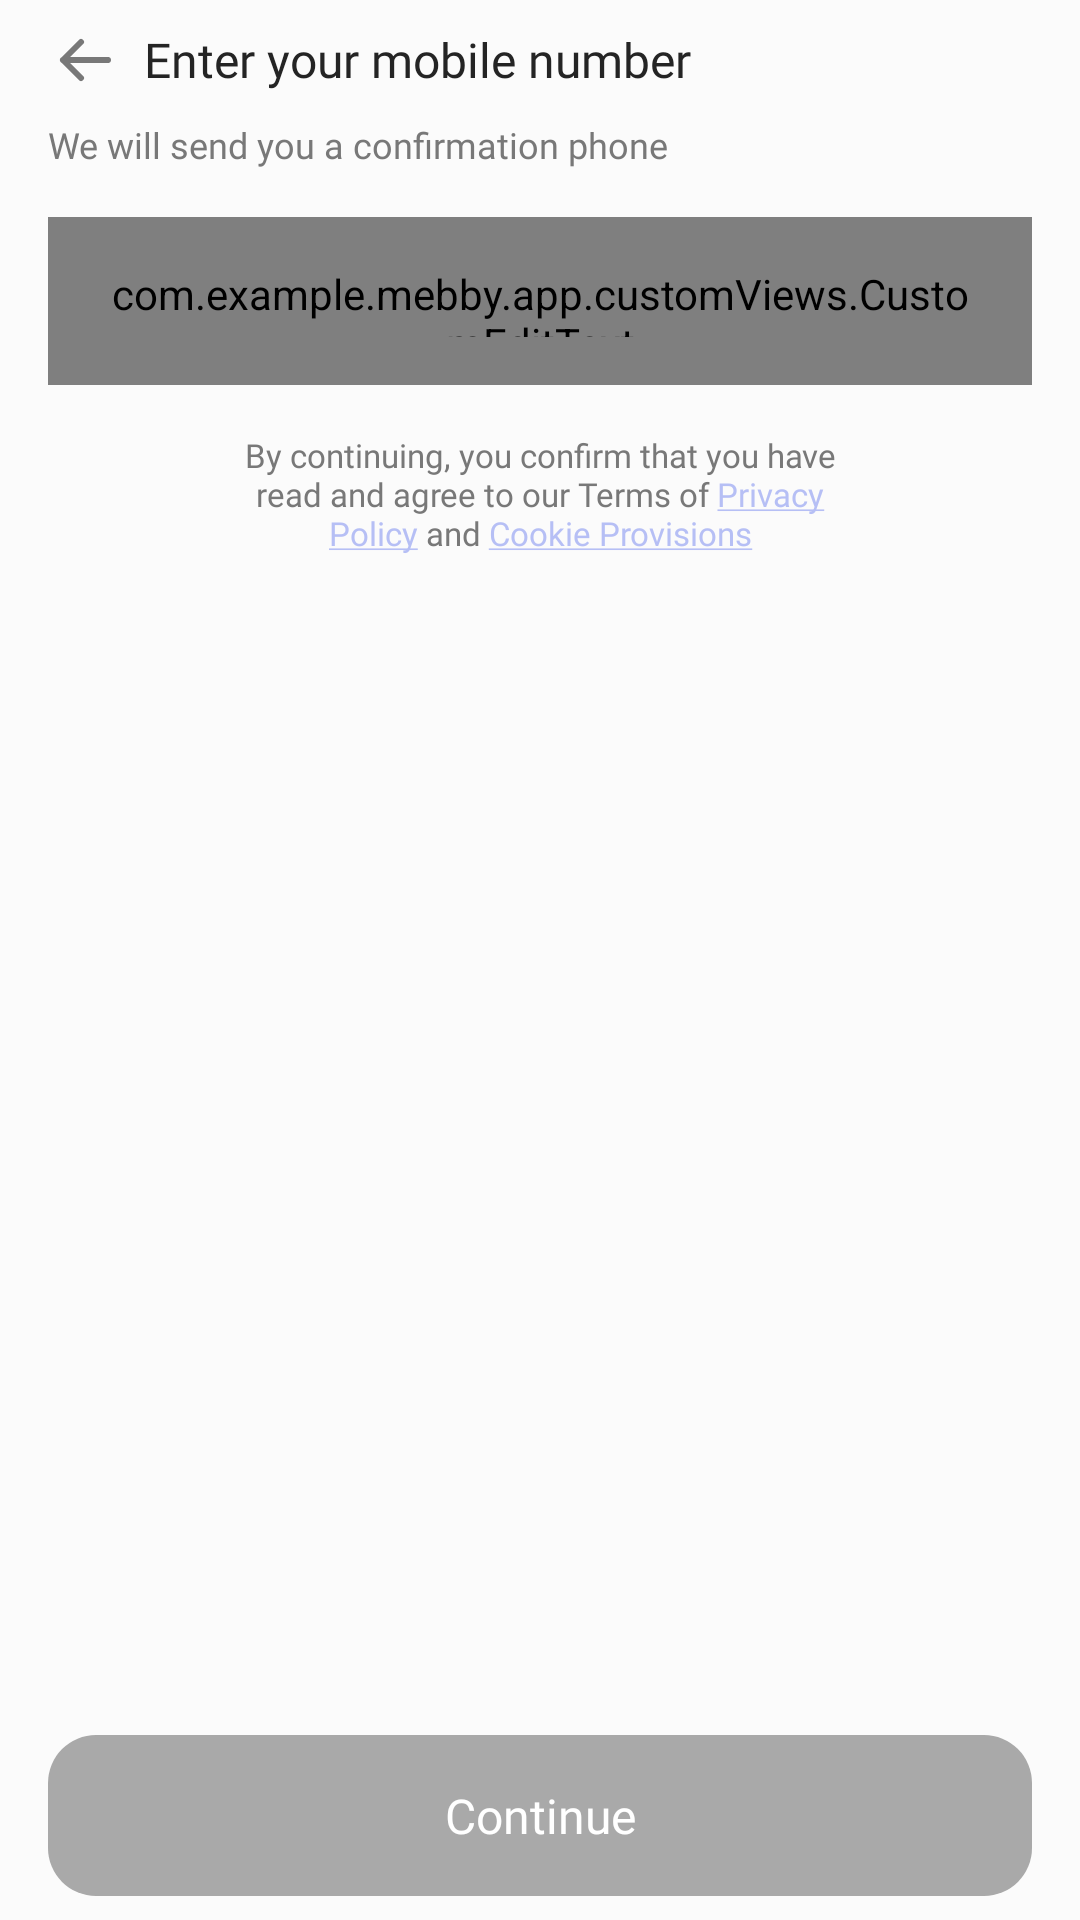

Icon bounding boxes for this 1080×1920 phone screenshot, format box(x1, y1, x2, y2):
Back: box(60, 39, 111, 81)
